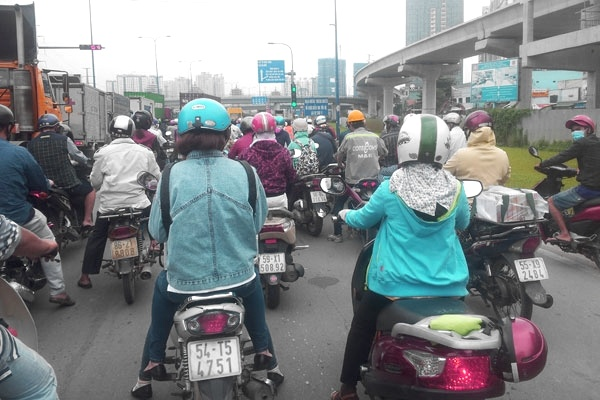Bien-so: (212, 349, 272, 400), (532, 250, 568, 278), (133, 255, 163, 282), (279, 261, 308, 285), (325, 195, 347, 212)
